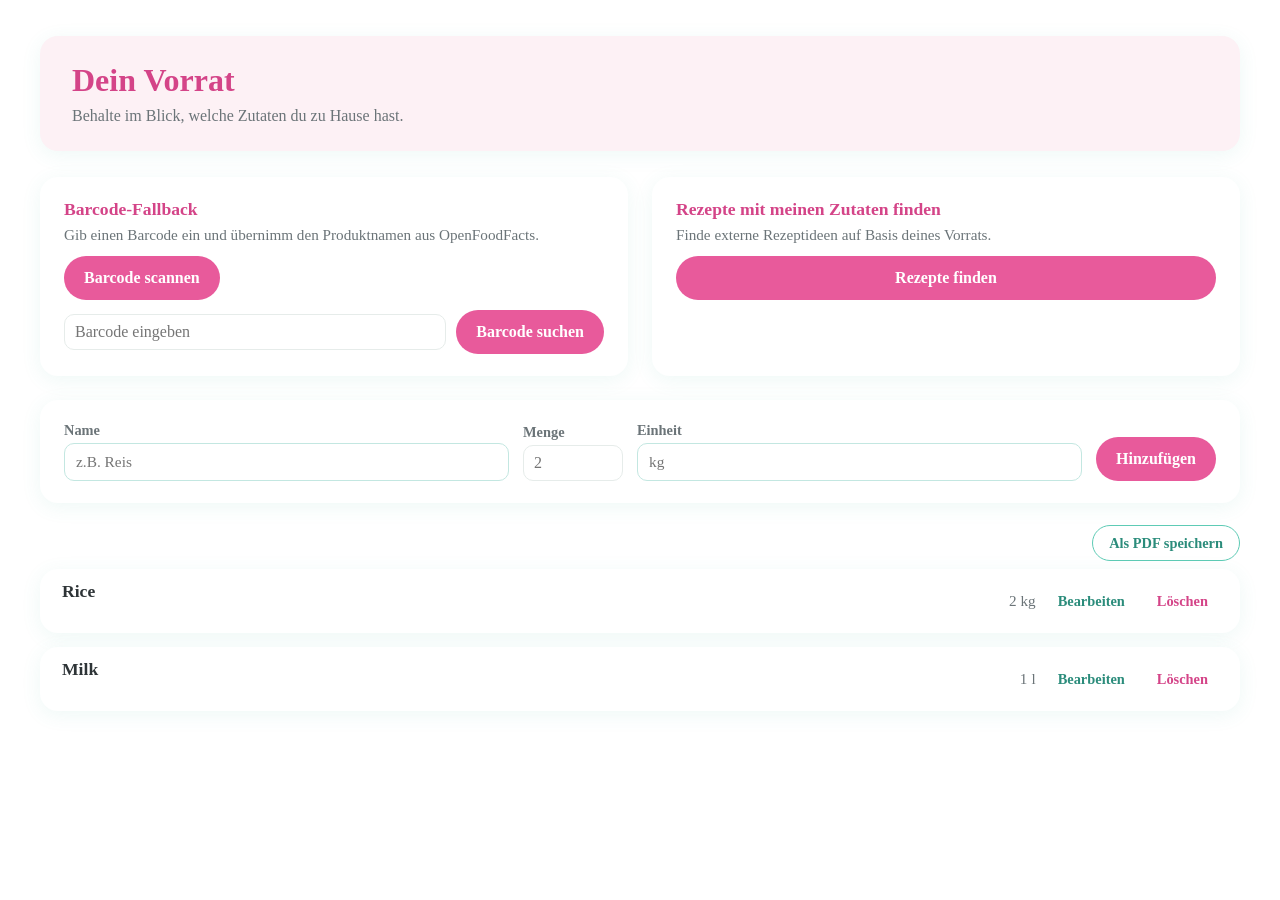
it: PantryView › deletes a pantry item and removes it from the list
What coordinates should you click on to do the following:
click the button with class "delete-btn" in the row of "kg"
I would click on:
 (1182, 601)
Its box is [1147, 581, 1218, 621].
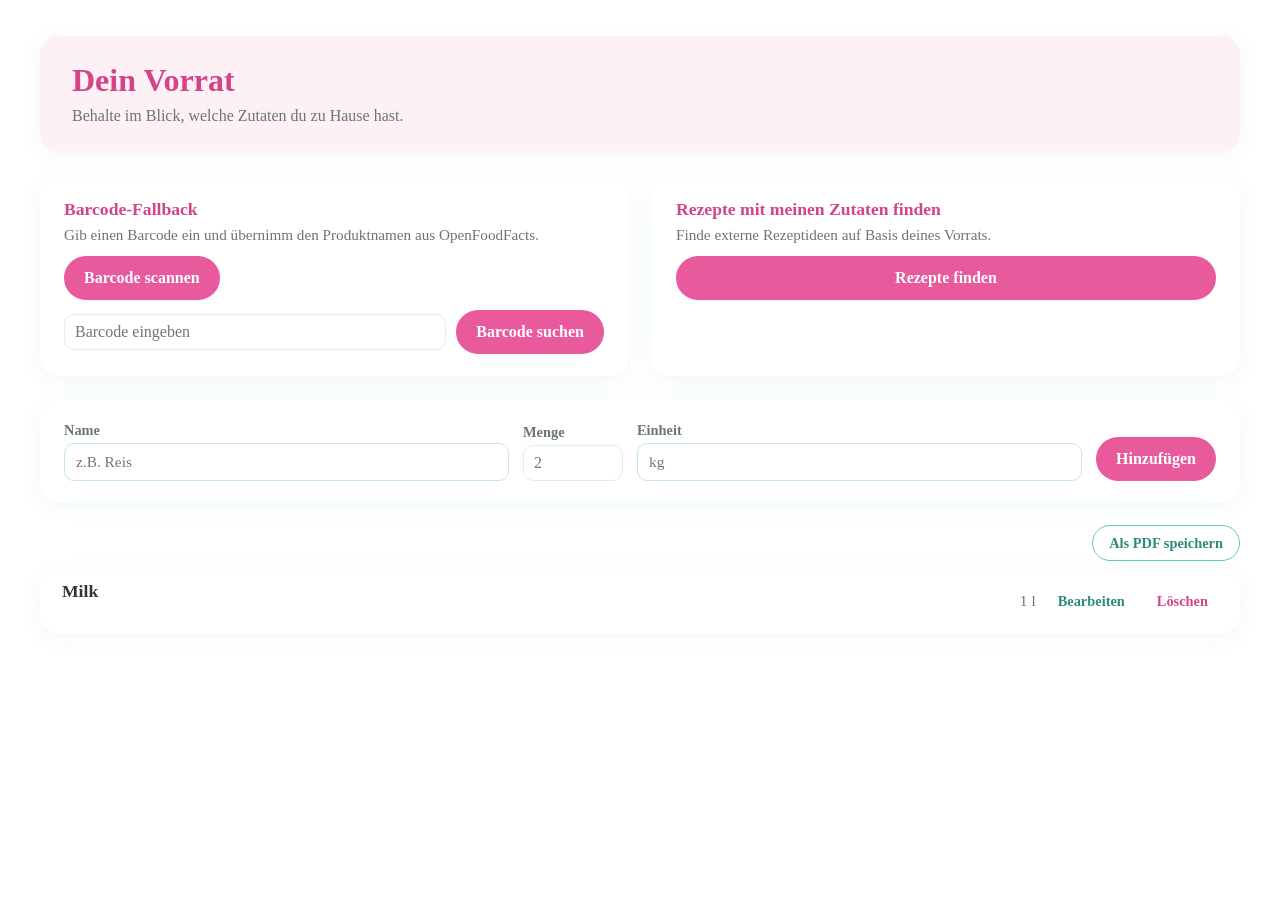
Expected: the text "Milk" is shown, [62, 581, 98, 601]
Now the text "Rice" is gone
